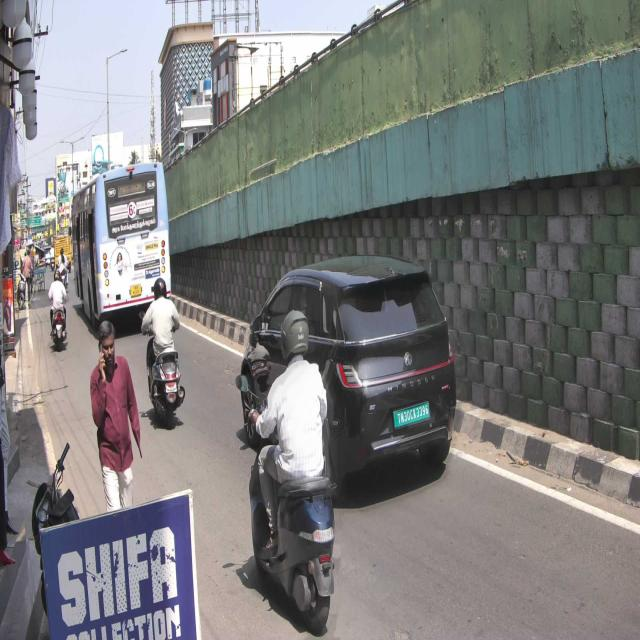single_rider: (243, 309, 337, 636), (139, 276, 188, 428)
